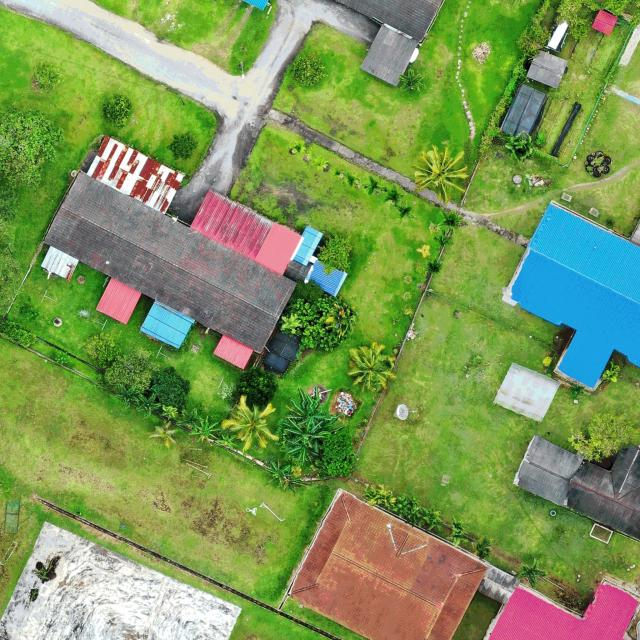Tree: (0, 105, 63, 188), (279, 294, 357, 354), (567, 410, 640, 463), (412, 145, 471, 204), (222, 394, 278, 452), (285, 412, 345, 463), (348, 341, 396, 390), (104, 351, 154, 396), (149, 366, 190, 411), (318, 432, 356, 476), (316, 232, 353, 276), (284, 385, 326, 420), (84, 330, 120, 370), (290, 54, 324, 87), (504, 130, 535, 166), (99, 95, 132, 128), (190, 414, 220, 448), (165, 131, 199, 161), (149, 419, 182, 449), (32, 60, 62, 93), (518, 558, 548, 588), (444, 516, 470, 549), (398, 64, 426, 94), (113, 383, 140, 411), (135, 392, 161, 418), (437, 209, 463, 233), (471, 536, 495, 560), (361, 175, 386, 198), (381, 183, 406, 206), (175, 409, 202, 429), (423, 510, 445, 533), (601, 359, 622, 383), (394, 200, 416, 219), (432, 230, 453, 249), (424, 257, 444, 276)
